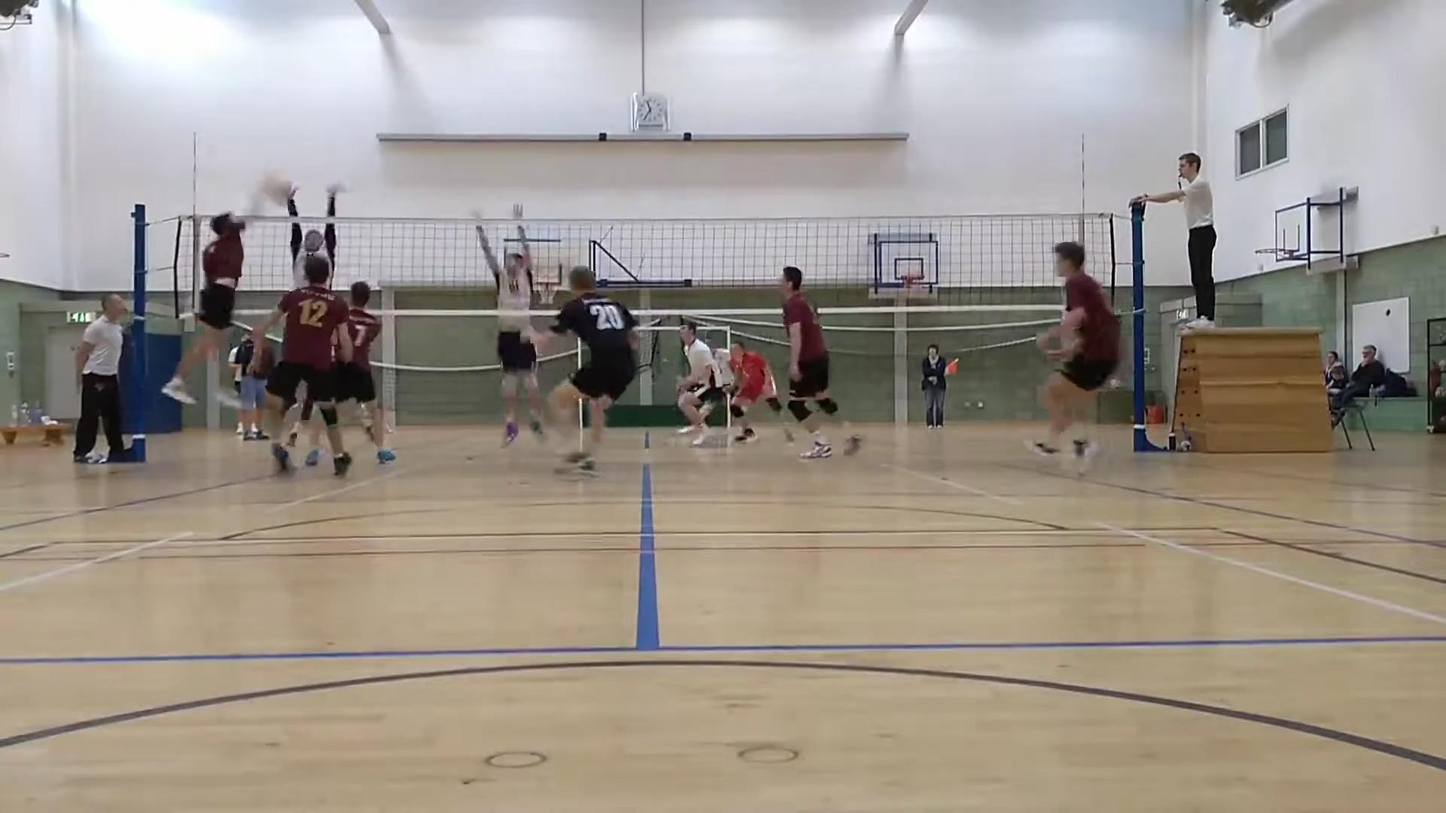attacco: (148, 179, 267, 418)
muro: (459, 201, 549, 450), (279, 178, 356, 300)
